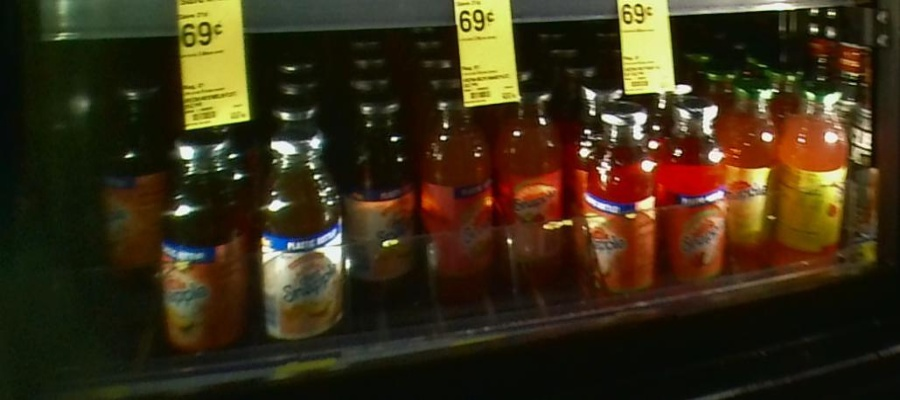bottle: (160, 122, 249, 362), (251, 121, 348, 341), (417, 89, 493, 291), (585, 92, 658, 296), (661, 92, 728, 291), (780, 84, 848, 271), (497, 85, 562, 280), (100, 76, 158, 280), (353, 90, 411, 284), (730, 79, 775, 251)
